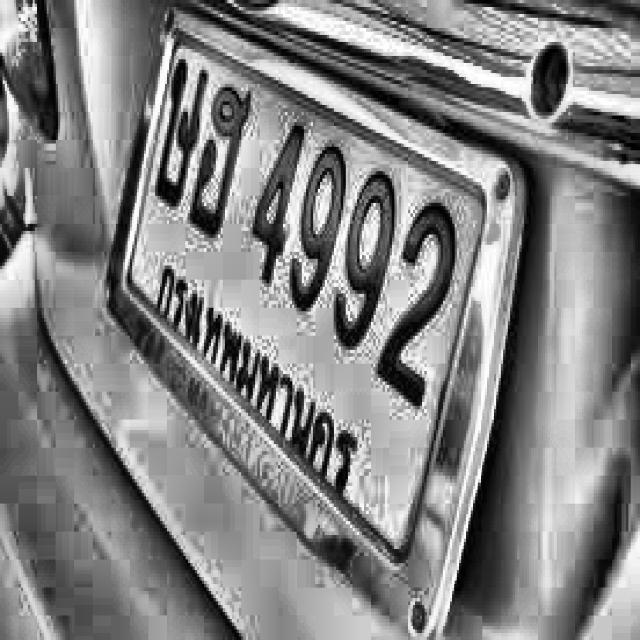license-plate: (104, 0, 534, 640)
